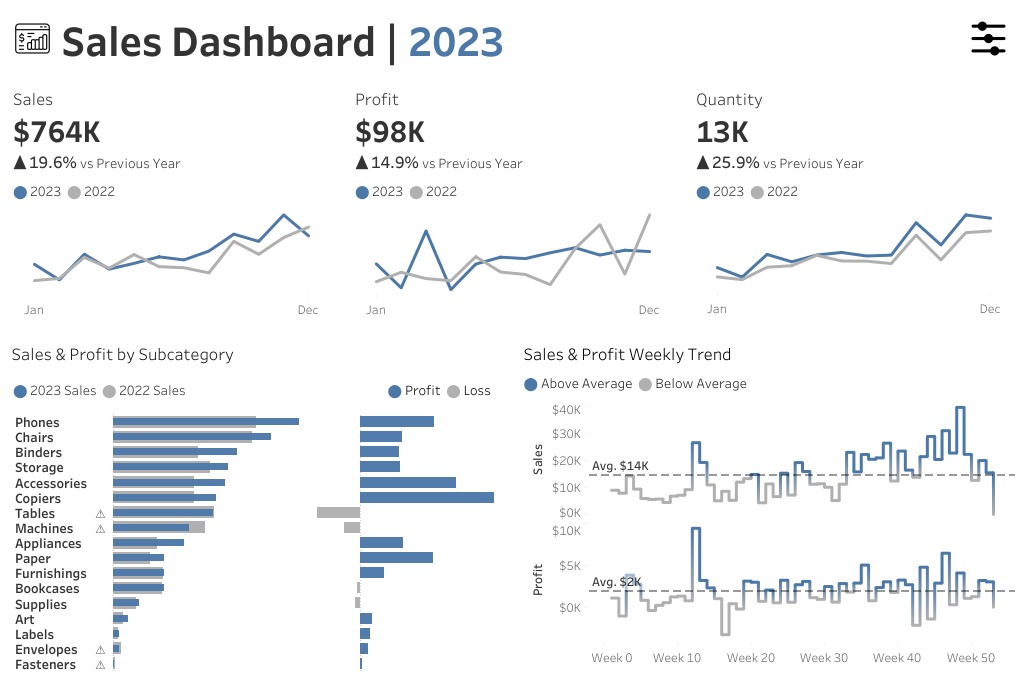

The page's visual inventory and layout, read from the dashboard file:
{"tool":"tableau","page":{"name":"Sales Dashboard","canvas":[1024,680],"ordinal":0},"visuals":[{"type":"blank","box":[0,0,10,78]},{"type":"image","param":"Image/Icon.png","box":[10,0,45,78]},{"type":"text","box":[55,0,907,78]},{"type":"dashboard-object","box":[962,0,49,78]},{"type":"blank","box":[1011,0,10,78]},{"type":"text","box":[864,79.1,154,31]},{"type":"worksheet","title":"Total Sales BAN","mark":"Automatic","box":[5,83,332,94]},{"type":"worksheet","title":"Total Profit BAN","mark":"Automatic","box":[347,83,331,94]},{"type":"worksheet","title":"Total Quantity BAN","mark":"Automatic","box":[688,83,331,94]},{"type":"blank","box":[864,110.1,154,30]},{"type":"parameter","param":"[Parameters].[Parameter 1]","box":[864,140.1,154,56]},{"type":"worksheet","title":"CY PY Year","mark":"Automatic","box":[5,177,332,28]},{"type":"worksheet","title":"CY PY Year (2)","mark":"Automatic","box":[347,177,331,28]},{"type":"worksheet","title":"CY PY Year (3)","mark":"Automatic","box":[688,177,331,28]},{"type":"blank","box":[864,196.1,154,30]},{"type":"worksheet","title":"Total Sales Chart","mark":"Automatic","rows":["Calculation_512284488997609472","Calculation_512284488998248449"],"cols":["Order Date"],"box":[5,205,332,122]},{"type":"worksheet","title":"Total Profit Chart","mark":"Automatic","rows":["CY Sales (copy)_302867106364768256","PY Sales (copy)_302867106365546498"],"cols":["Order Date"],"box":[347,205,331,122]},{"type":"worksheet","title":"Total Quantity Chart","mark":"Automatic","rows":["CY Profit (copy)_302867106364899329","PY Profit (copy)_302867106365657091"],"cols":["Order Date"],"box":[688,205,331,122]},{"type":"text","box":[864,226.1,154,26]},{"type":"filter","title":"Total Sales Chart","param":"[federated.1a443vd07cldop1eczcnq0tsmvuf].[none:Region:nk]","box":[864,252.1,154,53]},{"type":"filter","title":"Total Sales Chart","param":"[federated.1a443vd07cldop1eczcnq0tsmvuf].[none:State:nk]","box":[864,305.1,154,53]},{"type":"text","box":[5,337,502,32]},{"type":"text","box":[517,337,502,32]},{"type":"filter","title":"Total Sales Chart","param":"[federated.1a443vd07cldop1eczcnq0tsmvuf].[none:City:nk]","box":[864,358.1,154,53]},{"type":"worksheet","title":"CY PY Year Sales","mark":"Automatic","box":[5,369,376,41]},{"type":"text","box":[381,369,126,41]},{"type":"text","box":[517,369,502,26]},{"type":"worksheet","title":"Weekely Trend","mark":"Automatic","rows":["Calculation_512284488997609472","CY Sales (copy)_302867106364768256"],"cols":["Order Date"],"box":[517,395,502,280]},{"type":"worksheet","title":"Subcategory Sales Comparison","mark":"Bar","rows":["Sub-Category","Calculation_302867106380455944"],"cols":["Calculation_512284488998248449","Calculation_512284488997609472","CY Sales (copy)_302867106364768256"],"box":[5,410,502,265]},{"type":"blank","box":[864,411.1,154,30]},{"type":"text","box":[864,441.1,154,26]},{"type":"filter","title":"Total Sales Chart","param":"[federated.1a443vd07cldop1eczcnq0tsmvuf].[none:Category:nk]","box":[864,467.1,154,53]},{"type":"filter","title":"Total Sales Chart","param":"[federated.1a443vd07cldop1eczcnq0tsmvuf].[none:Sub-Category:nk]","box":[864,520.1,154,53]}]}

Visuals, with their boxes in screenshot pixels (x1, y1, x2, y2), scaled from the page's 1024x680 canvas onto the 1023x679 screenshot:
blank: bbox=[0, 0, 10, 78]
image: bbox=[10, 0, 55, 78]
text: bbox=[55, 0, 961, 78]
dashboard-object: bbox=[961, 0, 1010, 78]
blank: bbox=[1010, 0, 1020, 78]
text: bbox=[863, 79, 1017, 110]
"Total Sales BAN" worksheet: bbox=[5, 83, 337, 177]
"Total Profit BAN" worksheet: bbox=[347, 83, 677, 177]
"Total Quantity BAN" worksheet: bbox=[687, 83, 1018, 177]
blank: bbox=[863, 110, 1017, 140]
parameter: bbox=[863, 140, 1017, 196]
"CY PY Year" worksheet: bbox=[5, 177, 337, 205]
"CY PY Year (2)" worksheet: bbox=[347, 177, 677, 205]
"CY PY Year (3)" worksheet: bbox=[687, 177, 1018, 205]
blank: bbox=[863, 196, 1017, 226]
"Total Sales Chart" worksheet: bbox=[5, 205, 337, 327]
"Total Profit Chart" worksheet: bbox=[347, 205, 677, 327]
"Total Quantity Chart" worksheet: bbox=[687, 205, 1018, 327]
text: bbox=[863, 226, 1017, 252]
"Total Sales Chart" filter: bbox=[863, 252, 1017, 305]
"Total Sales Chart" filter: bbox=[863, 305, 1017, 358]
text: bbox=[5, 337, 507, 368]
text: bbox=[516, 337, 1018, 368]
"Total Sales Chart" filter: bbox=[863, 358, 1017, 410]
"CY PY Year Sales" worksheet: bbox=[5, 368, 381, 409]
text: bbox=[381, 368, 507, 409]
text: bbox=[516, 368, 1018, 394]
"Weekely Trend" worksheet: bbox=[516, 394, 1018, 674]
"Subcategory Sales Comparison" worksheet (Bar marks): bbox=[5, 409, 507, 674]
blank: bbox=[863, 410, 1017, 440]
text: bbox=[863, 440, 1017, 466]
"Total Sales Chart" filter: bbox=[863, 466, 1017, 519]
"Total Sales Chart" filter: bbox=[863, 519, 1017, 572]
